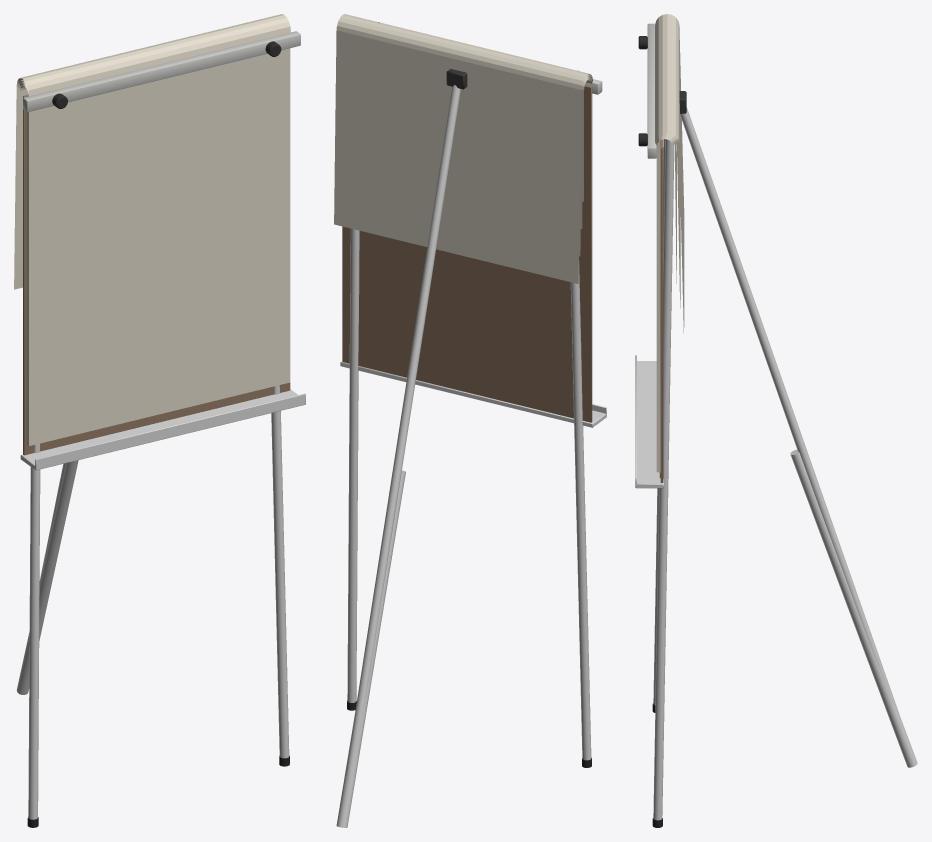
The model's file is Kit_FlipChartEasel_PagesOver.fbx.
3 renders of one model, left to right at view 1: azimuth 30°, elevation 25°; view 2: azimuth 150°, elevation 25°; view 3: azimuth 270°, elevation 25°, orthographic. The views are drawn at different scales.
Parts seen in each view (by area): view 1: Kit_FlipChartEasel_PagesOver_LOD0; view 2: Kit_FlipChartEasel_PagesOver_LOD0; view 3: Kit_FlipChartEasel_PagesOver_LOD0.
Part boxes in pixels (box(x1,y1,x2,y2)): Kit_FlipChartEasel_PagesOver_LOD0: box(14, 14, 305, 827); Kit_FlipChartEasel_PagesOver_LOD0: box(334, 14, 606, 827); Kit_FlipChartEasel_PagesOver_LOD0: box(635, 14, 917, 827).
Size of what is drawn, in the model's own units: 0.72 by 1.87 by 0.6878.
